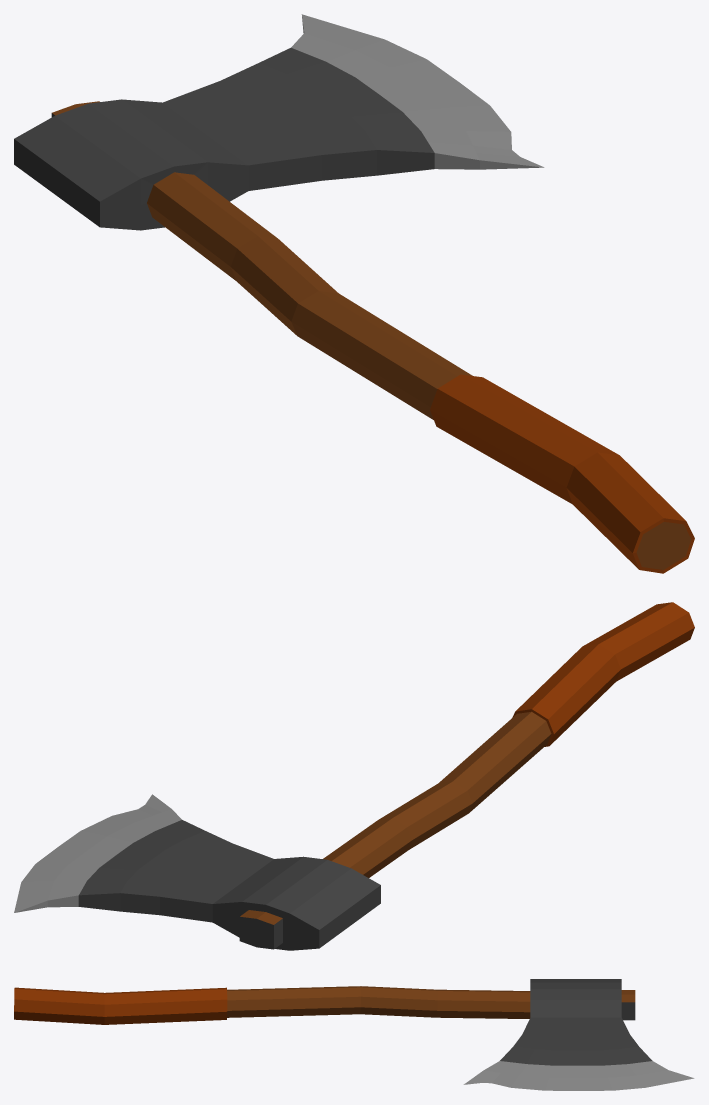
Rendered from axe.fbx.
3 views of the same model, one above another, from view 1: azimuth 30°, elevation 25°; view 2: azimuth 150°, elevation 25°; view 3: azimuth 270°, elevation 25° (orthographic). The views are drawn at different scales.
Visible parts, largest first — view 1: Plane.002, Plane, Plane.001, Plane.003; view 2: Plane.002, Plane, Plane.001, Plane.003; view 3: Plane.002, Plane, Plane.001, Plane.003.
Part boxes in pixels (x1,y1,x2,y2): Plane.002: (14,48,434,230); Plane: (52,101,691,569); Plane.001: (430,374,694,573); Plane.003: (291,14,544,169); Plane.002: (78,820,380,950); Plane: (240,711,551,924); Plane.001: (512,602,694,746); Plane.003: (14,794,181,912); Plane.002: (500,979,652,1065); Plane: (227,986,635,1018); Plane.001: (14,987,227,1024); Plane.003: (463,1061,694,1090).
Bounding box in the file's own units: 545 × 80.4 × 1492.
